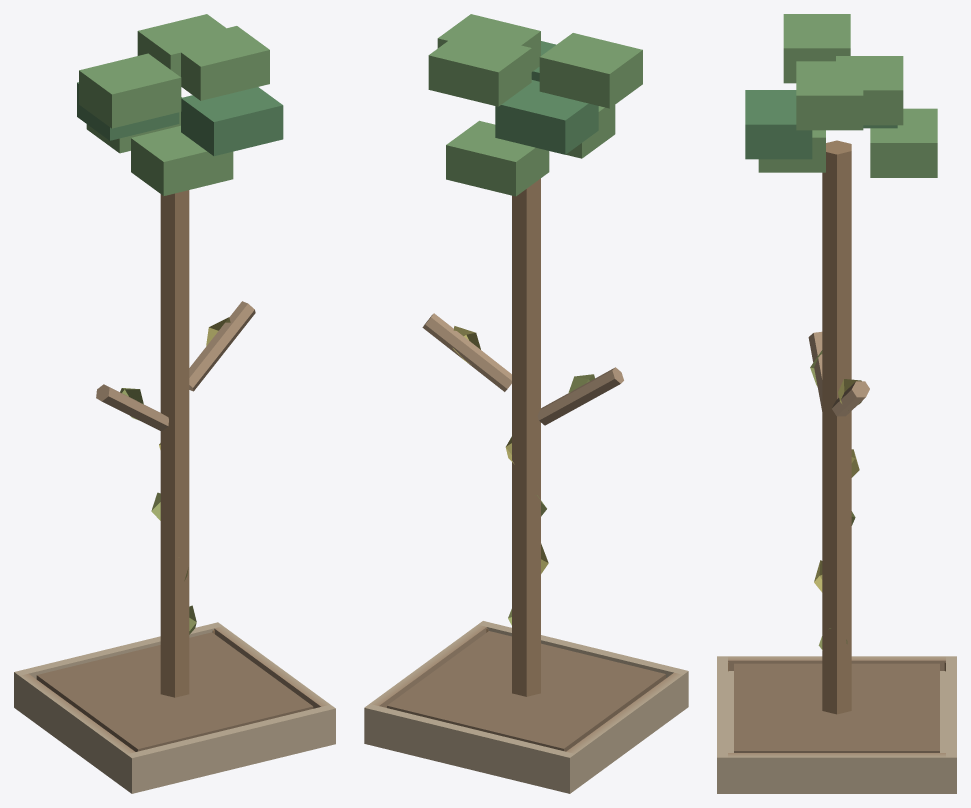
Rendered from cacao_fruto_far.glb.
The picture shows the model from 3 angles, left to right: view 1: azimuth 30°, elevation 25°; view 2: azimuth 150°, elevation 25°; view 3: azimuth 270°, elevation 25°; orthographic projection.
Visible parts, largest first — view 1: model; view 2: model; view 3: model.
Boxes of the visible parts, x1,y1,x2,y2 form: model: (14,14,335,793); model: (364,14,688,793); model: (717,14,956,793).
Bounding box in the file's own units: 1 × 3.15 × 1.
